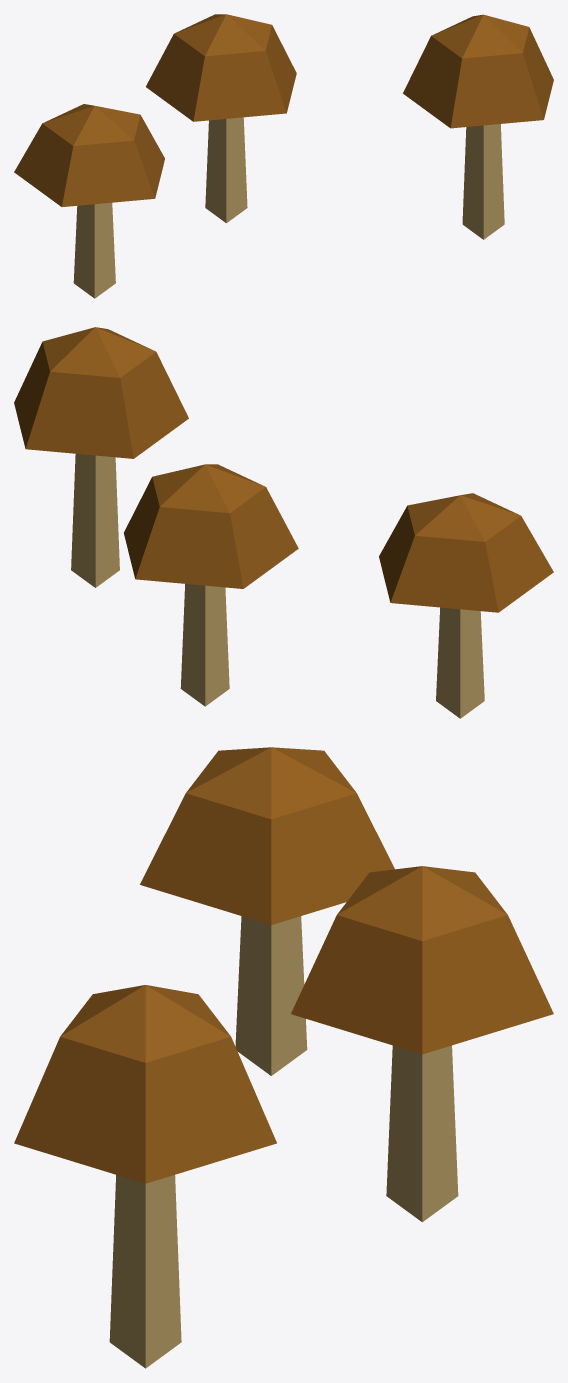
Rendered from Mushroom_Cluster_02.fbx.
The picture shows the model from 3 angles, top to bottom: view 1: azimuth 30°, elevation 25°; view 2: azimuth 150°, elevation 25°; view 3: azimuth 270°, elevation 25°; orthographic projection. The views are drawn at different scales.
Parts seen in each view (by area): view 1: Mushroom_Cluster_02_Mesh; view 2: Mushroom_Cluster_02_Mesh; view 3: Mushroom_Cluster_02_Mesh.
Part boxes in pixels (left/top/right/bottom): Mushroom_Cluster_02_Mesh: left=14, top=14, right=553, bottom=298; Mushroom_Cluster_02_Mesh: left=14, top=327, right=553, bottom=718; Mushroom_Cluster_02_Mesh: left=14, top=747, right=553, bottom=1368.
Bounding box in the file's own units: 0.5107 × 0.219 × 0.2926.
Materials: 1 (1 with a texture image).
